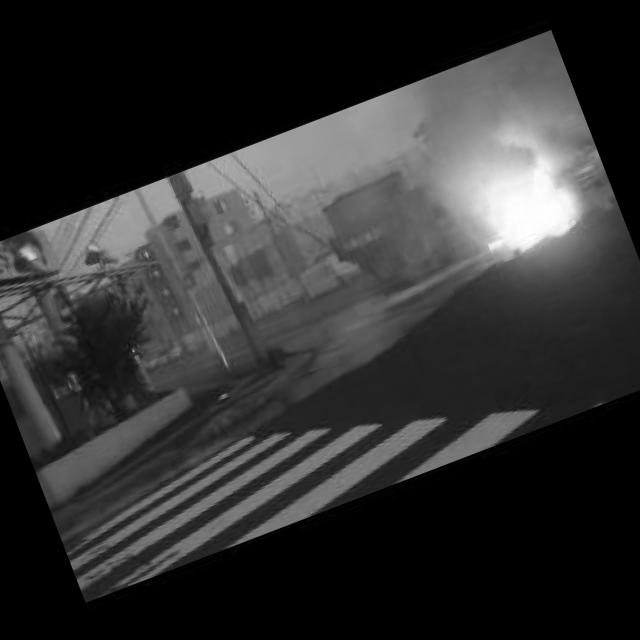fire: (467, 158, 593, 264)
smoke: (414, 28, 598, 203)
